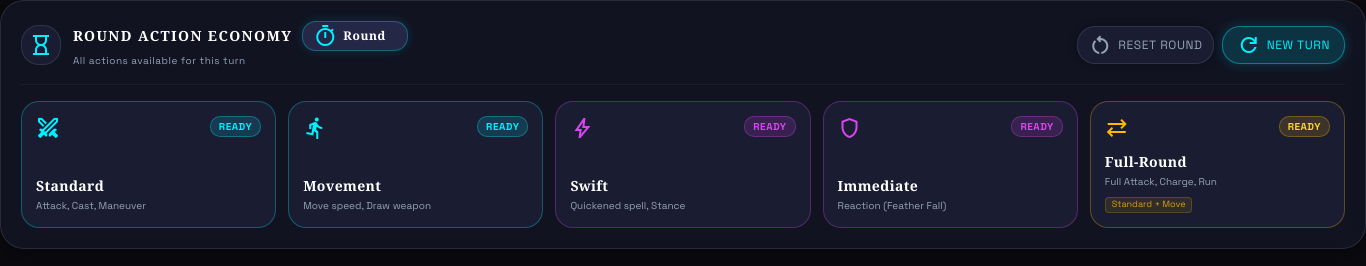
Scenario: ActionEconomyTracker Component › handles bidirectional Full-Round action interconnection with Standard and Move
// Activating Full-Round spends Full-Round, Standard, and Move
Click the button "Full-Round". click: (1217, 164)
box: [1090,101,1345,228]
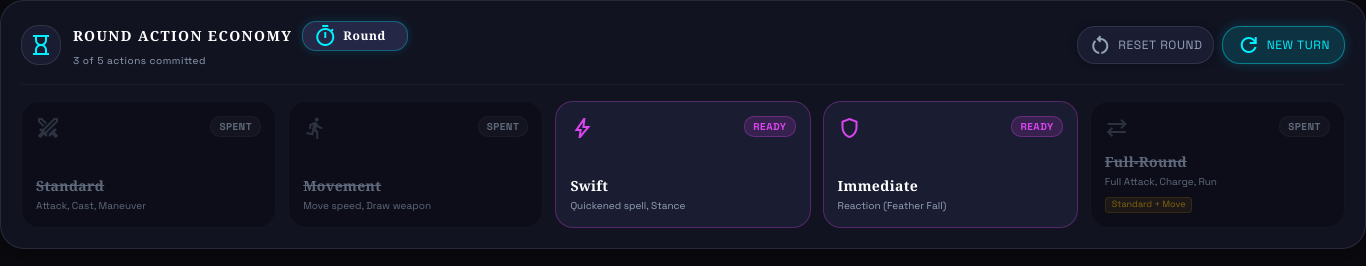
Expected: the text "Spent" is shown 3 times, [210,116,261,137]; [478,116,528,137]; [1279,116,1330,137]
Now the text "3 of 5 actions committed" is shown, box [73,54,206,67]
// Untoggling Full-Round frees Full-Round, Standard, and Move
Click the button "Full-Round". click: (1217, 164)
box: [1090,101,1345,228]
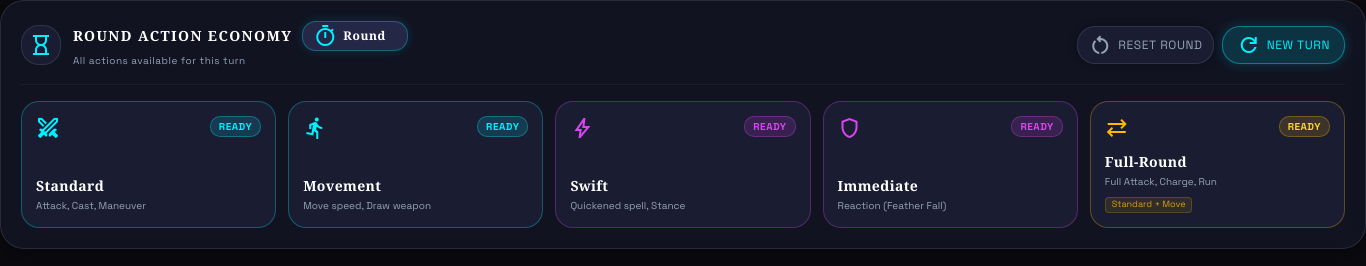
Expected: the text "Ready" is shown 5 times, [210,116,261,137]; [477,116,528,137]; [744,116,796,137]; [1012,116,1063,137]; [1279,116,1330,137]
Now the button "Spent" is gone
// Spending Standard and Move individually causes Full-Round to automatically become Spent
Click the button "Ready Standard Attack, Cast, Maneuver". click: (149, 164)
box: [21,101,276,228]
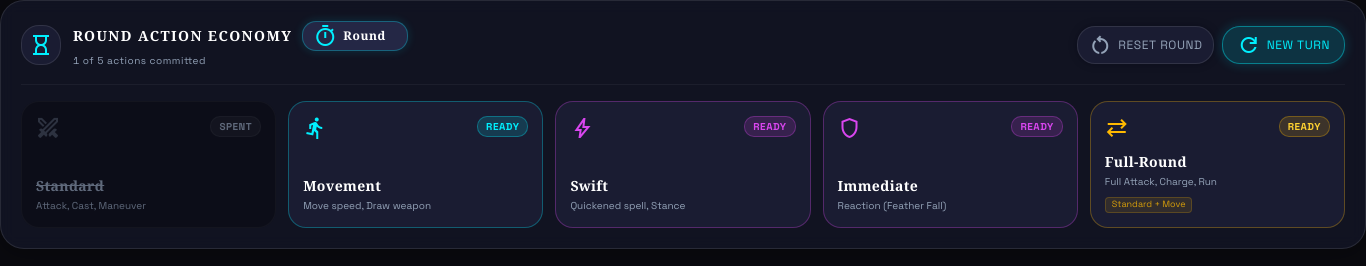
Expected: the text "Spent" is shown once, [210,116,261,137]
Expected: the text "Ready" is shown 4 times, [477,116,528,137]; [744,116,796,137]; [1012,116,1063,137]; [1279,116,1330,137]
Click the button "Ready Movement Move speed, Draw weapon". click: (416, 164)
box: [288,101,543,228]
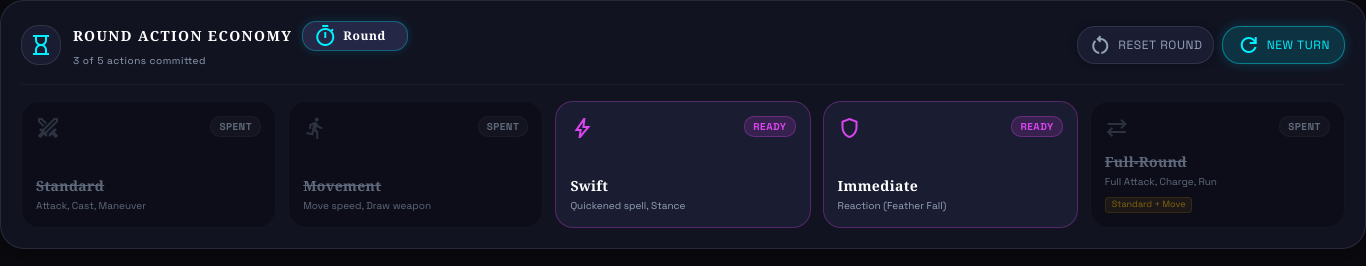
Expected: the text "Spent" is shown 3 times, [210,116,261,137]; [478,116,528,137]; [1279,116,1330,137]
Expected: the text "Ready" is shown 2 times, [744,116,796,137]; [1012,116,1063,137]
// Untoggling Standard while Full-Round was Spent frees Standard and Full-Round, but leaves Move Spent
Click the button "Spent Standard Attack, Cast, Maneuver". click: (149, 164)
box: [21,101,276,228]
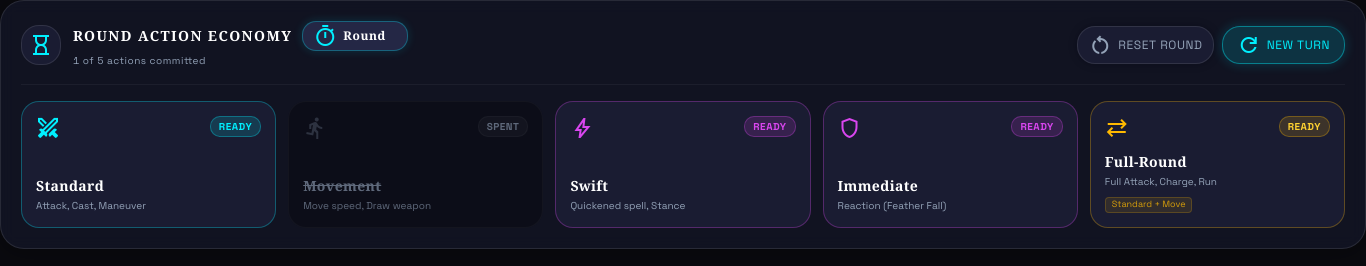
Expected: the text "Spent" is shown once, [478,116,528,137]
Expected: the text "Ready" is shown 4 times, [210,116,261,137]; [744,116,796,137]; [1012,116,1063,137]; [1279,116,1330,137]
// Untoggling Move returns everything to Ready
Click the button "Spent Movement Move speed, Draw weapon". click: (416, 164)
box: [288,101,543,228]
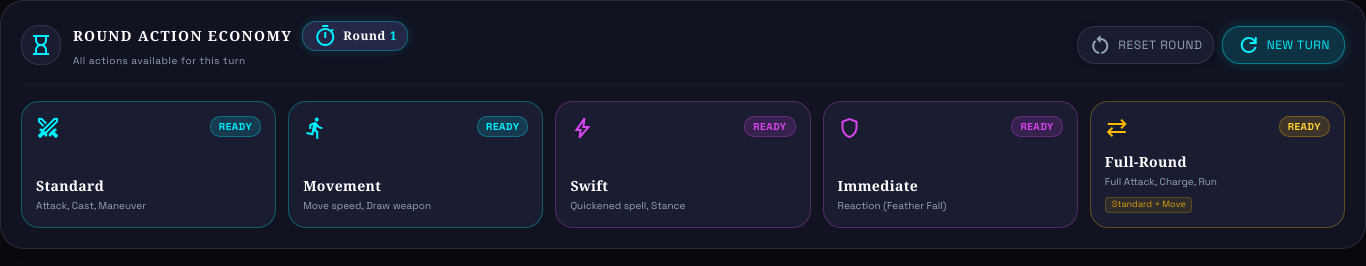
Expected: the text "Ready" is shown 5 times, [210,116,261,137]; [477,116,528,137]; [744,116,796,137]; [1012,116,1063,137]; [1279,116,1330,137]
Now the button "Spent" is gone
